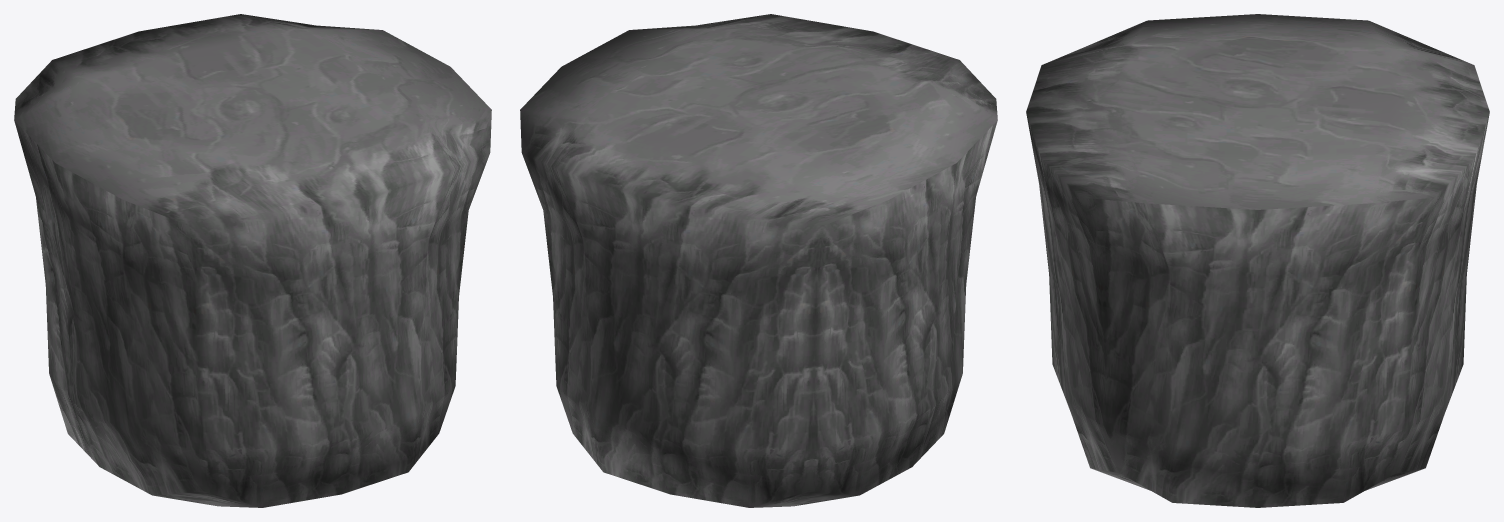
Rendered from INST_SWORDLIGHT_ROCKPLATB.fbx.
3 views of the same model, side by side, from view 1: azimuth 30°, elevation 25°; view 2: azimuth 150°, elevation 25°; view 3: azimuth 270°, elevation 25° (orthographic).
Parts seen in each view (by area): view 1: INST_SWORDLIGHT_ROCKPLATB; view 2: INST_SWORDLIGHT_ROCKPLATB; view 3: INST_SWORDLIGHT_ROCKPLATB.
Part boxes in pixels (bbox=[...]): INST_SWORDLIGHT_ROCKPLATB: bbox=[14, 14, 491, 507]; INST_SWORDLIGHT_ROCKPLATB: bbox=[520, 14, 997, 507]; INST_SWORDLIGHT_ROCKPLATB: bbox=[1026, 14, 1489, 507].
Bounding box in the file's own units: 21152 × 17951 × 21152.
Materials: 2 (2 with a texture image).
